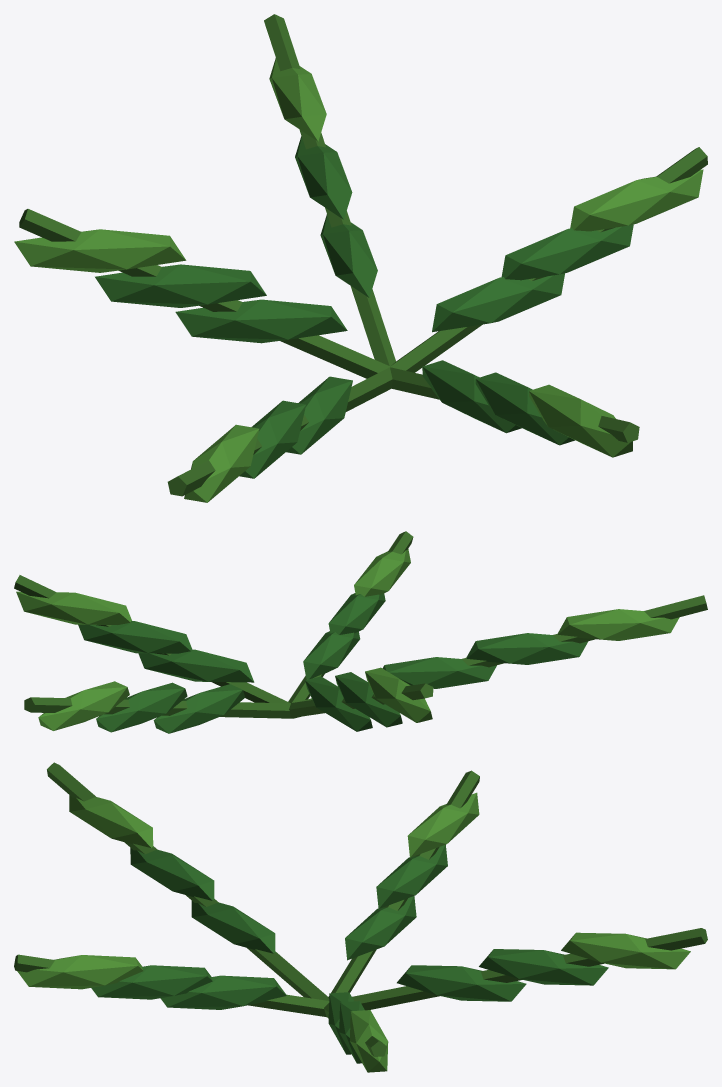
The model's file is fern_d.glb.
3 views of the same model, one above another, from view 1: azimuth 30°, elevation 25°; view 2: azimuth 150°, elevation 25°; view 3: azimuth 270°, elevation 25° (orthographic). The views are drawn at different scales.
Parts seen in each view (by area): view 1: Leaf_3_1.003, Leaf_3_2.003, Leaf_3_3.003, Leaf_1_3.003, Leaf_1_1.003, Leaf_1_2.003, Stem_3.003, Leaf_5_3.003, Stem_2.003, Leaf_4_3.003, Leaf_5_1.003, Leaf_2_1.003 (+8 smaller); view 2: Leaf_4_2.003, Leaf_4_3.003, Leaf_1_3.003, Leaf_1_1.003, Leaf_1_2.003, Leaf_4_1.003, Leaf_2_1.003, Leaf_2_2.003, Leaf_2_3.003, Stem_2.003, Leaf_3_3.003, Leaf_3_1.003 (+8 smaller); view 3: Leaf_2_3.003, Leaf_2_1.003, Leaf_2_2.003, Leaf_5_3.003, Leaf_5_1.003, Leaf_5_2.003, Stem_2.003, Stem_4.003, Leaf_4_1.003, Leaf_4_2.003, Leaf_4_3.003, Leaf_3_3.003 (+7 smaller).
Boxes of the visible parts, x1,y1,x2,y2 form: Leaf_3_1.003: (175, 299, 347, 343); Leaf_3_2.003: (95, 264, 266, 307); Leaf_3_3.003: (14, 229, 186, 272); Leaf_1_3.003: (570, 169, 703, 231); Leaf_1_1.003: (432, 273, 564, 332); Leaf_1_2.003: (501, 224, 633, 280); Stem_3.003: (19, 209, 391, 378); Leaf_5_3.003: (529, 384, 632, 457); Stem_2.003: (264, 14, 395, 366); Leaf_4_3.003: (184, 424, 259, 502); Leaf_5_1.003: (422, 360, 521, 433); Leaf_2_1.003: (320, 214, 377, 297); Leaf_4_2.003: (466, 633, 588, 664); Leaf_4_3.003: (557, 609, 679, 640); Leaf_1_3.003: (16, 591, 131, 624); Leaf_1_1.003: (138, 649, 254, 682); Leaf_1_2.003: (78, 621, 192, 653); Leaf_4_1.003: (382, 657, 496, 688); Leaf_2_1.003: (153, 684, 245, 733); Leaf_2_2.003: (96, 682, 187, 732); Leaf_2_3.003: (38, 681, 129, 730); Stem_2.003: (24, 697, 293, 718); Leaf_3_3.003: (365, 667, 432, 722); Leaf_3_1.003: (305, 676, 372, 731); Leaf_2_3.003: (561, 932, 690, 969); Leaf_2_1.003: (397, 965, 526, 1001); Leaf_2_2.003: (479, 949, 608, 985); Leaf_5_3.003: (17, 955, 143, 989); Leaf_5_1.003: (160, 975, 286, 1009); Leaf_5_2.003: (91, 965, 212, 999); Stem_2.003: (352, 928, 707, 1010); Stem_4.003: (47, 762, 329, 1000); Leaf_4_1.003: (191, 901, 275, 953); Leaf_4_2.003: (130, 848, 214, 900); Leaf_4_3.003: (69, 795, 153, 847); Leaf_3_3.003: (407, 792, 479, 857).
Size of the model in its own units: 1.95 by 0.447 by 2.01.
